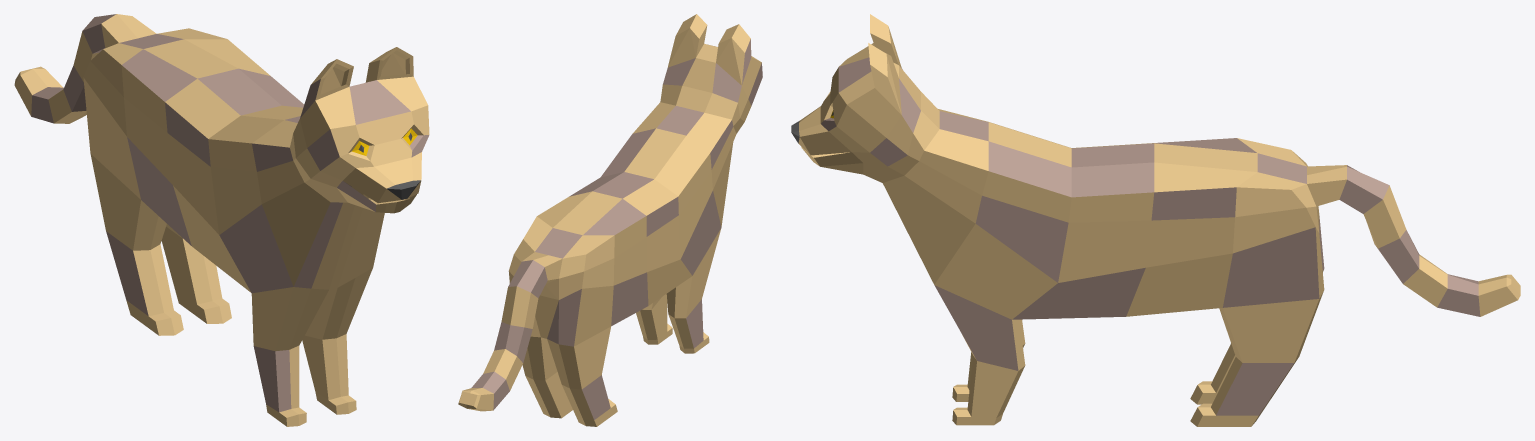
Rendered from lepoard.glb.
The picture shows the model from 3 angles, left to right: view 1: azimuth 30°, elevation 25°; view 2: azimuth 150°, elevation 25°; view 3: azimuth 270°, elevation 25°; orthographic projection. The views are drawn at different scales.
Parts seen in each view (by area): view 1: node-0; view 2: node-0; view 3: node-0.
Part boxes in pixels (x1,y1,x2,y2): node-0: (14, 14, 429, 426); node-0: (458, 14, 762, 426); node-0: (791, 14, 1520, 426).
Size of the model in its own units: 5.93 by 21.42 by 37.07.
